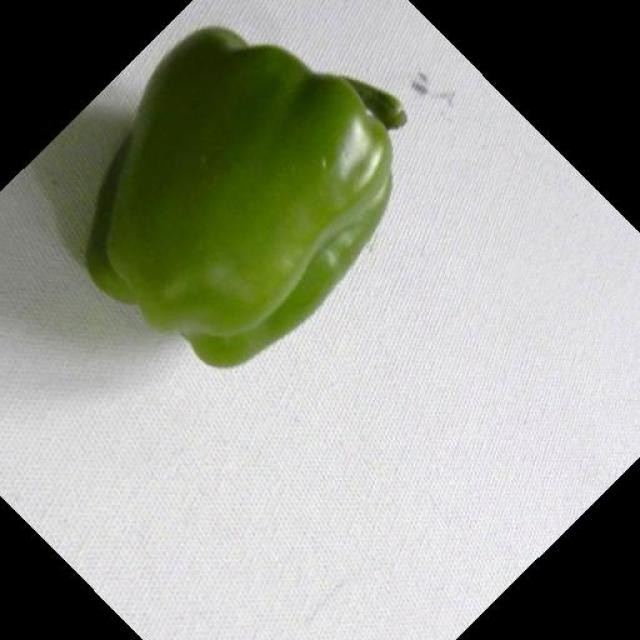Fresh_Capsicum: (131, 28, 401, 357)
